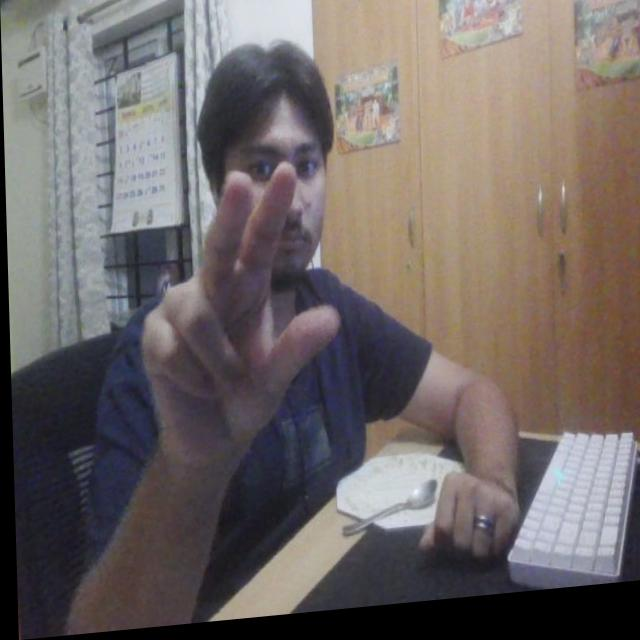no: (126, 156, 352, 478)
